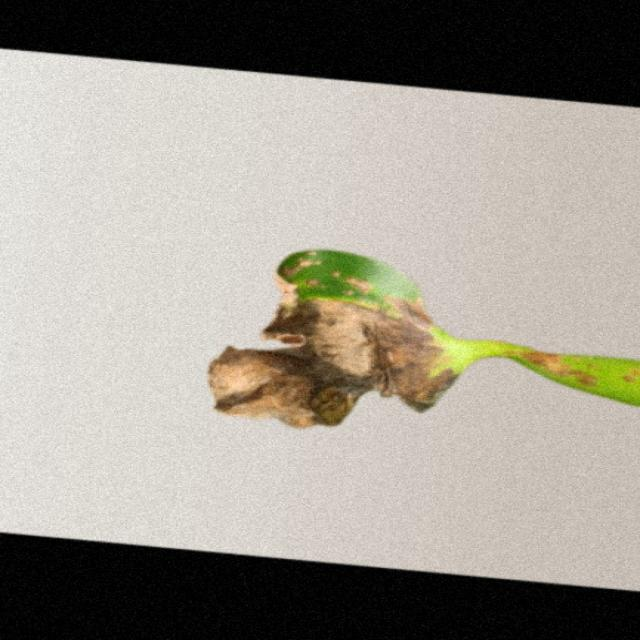daun berpenyakit karat: (209, 251, 640, 429)
